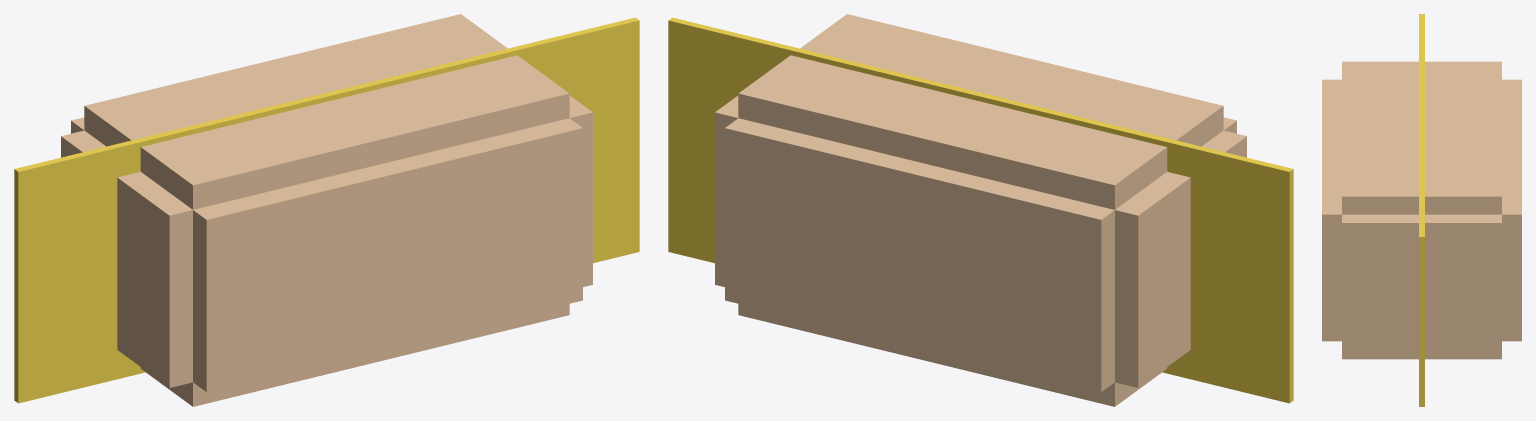
File: hay_bale.glb
The picture shows the model from 3 angles, left to right: view 1: azimuth 30°, elevation 25°; view 2: azimuth 150°, elevation 25°; view 3: azimuth 270°, elevation 25°; orthographic projection. The views are drawn at different scales.
Visible parts, largest first — view 1: hay_bale; view 2: hay_bale; view 3: hay_bale.
Boxes of the visible parts, x1=… form: hay_bale: x1=14, y1=14, x2=639, y2=406; hay_bale: x1=668, y1=14, x2=1293, y2=406; hay_bale: x1=1322, y1=14, x2=1521, y2=406.
Bounding box in the file's own units: 1.32 × 0.47 × 0.5.
